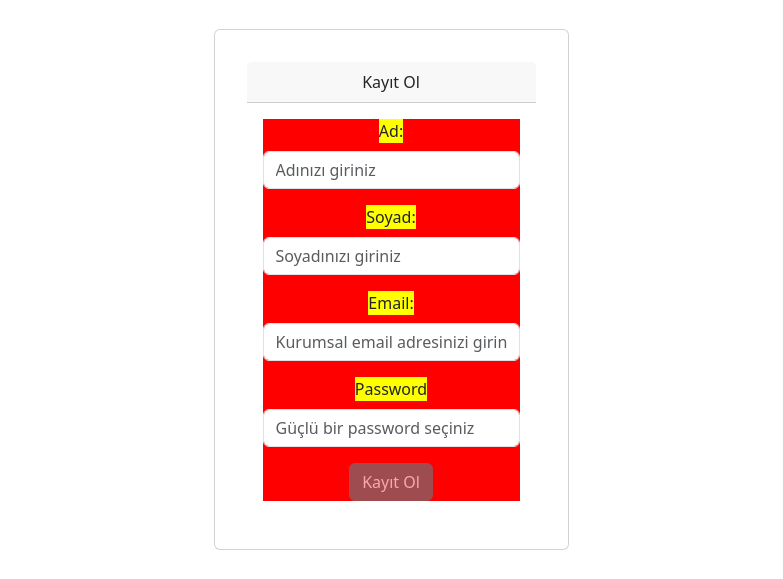
Register Page › Error Messages › Password input throws error for ozan@wit.
In the password field with test id "password-input": (392, 428) [263,409,520,447], type "1234"
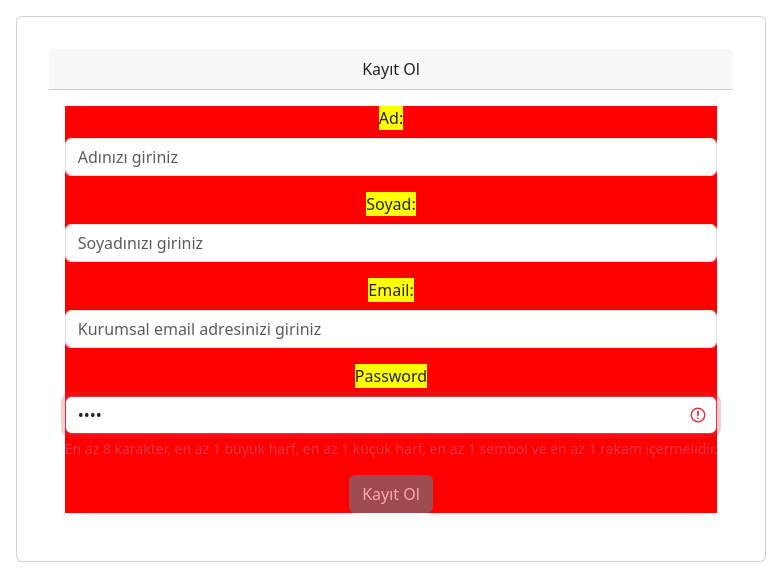
Expected: the text "En az 8 karakter, en az 1 büyük harf, en az 1 küçük harf, en az 1 sembol ve en az 1 rakam içermelidir." is shown, [65,439,718,458]
